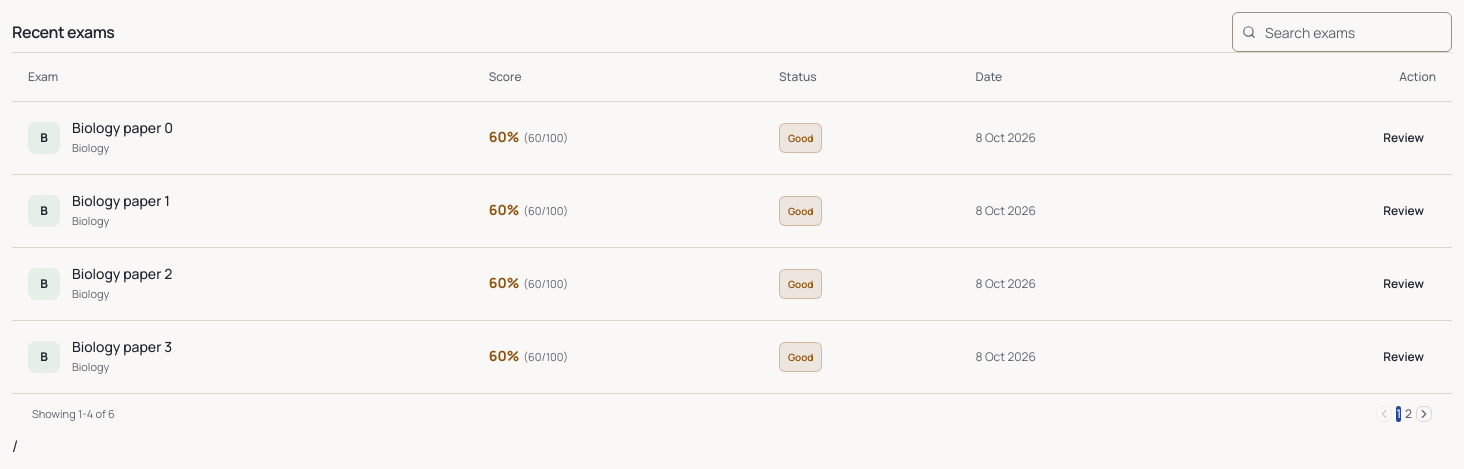
keeps exam search, pagination and the exact review destination
Later steps or results of the test are not shown.
Click the button named "Next results page" at (1424,414), box [1416,406,1432,422]
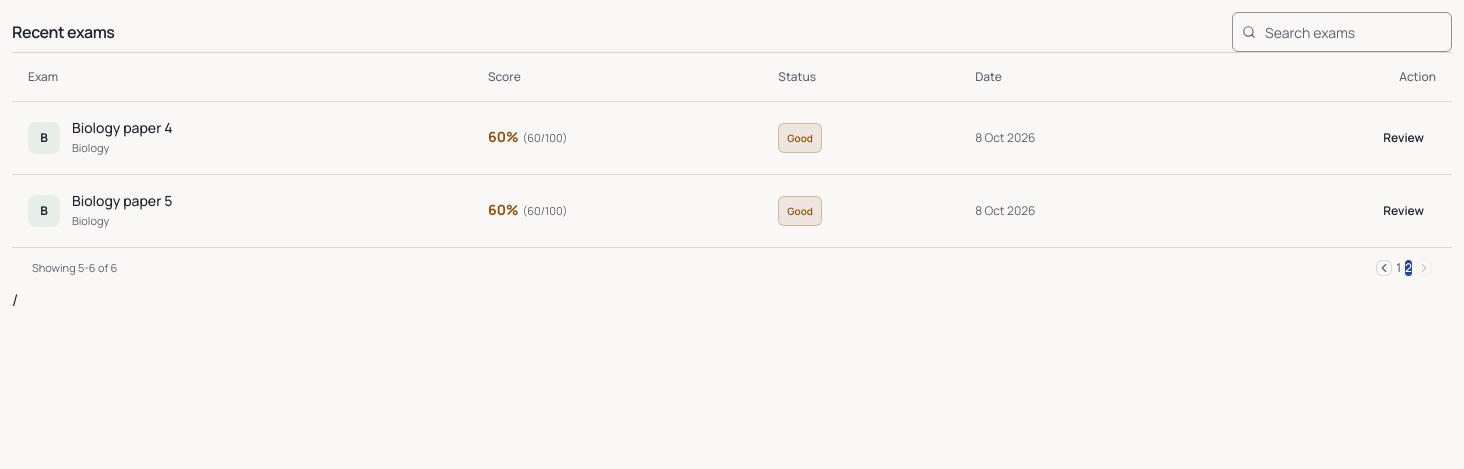
Now the text "Biology paper 4" is shown, box [72,118,172,138]
Type "paper 2" into the field labelled "Search exams" at (1342,32), box [1232,12,1452,52]
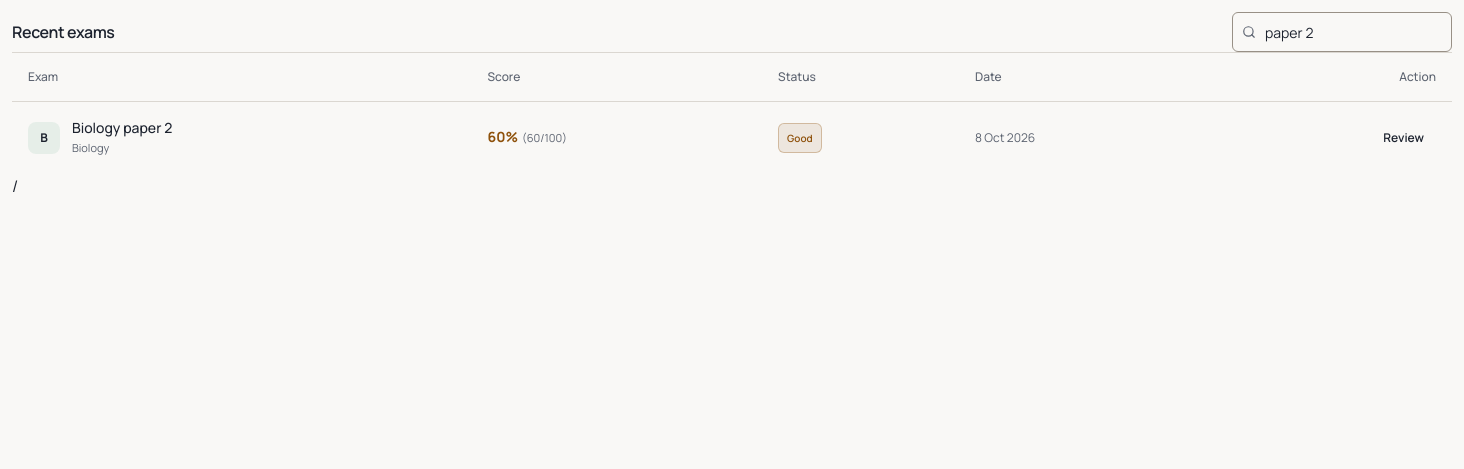
Now the text "Biology paper 2" is shown, box [72,118,172,138]
Click the button "Review" at (1404,138), box [1371,118,1436,158]
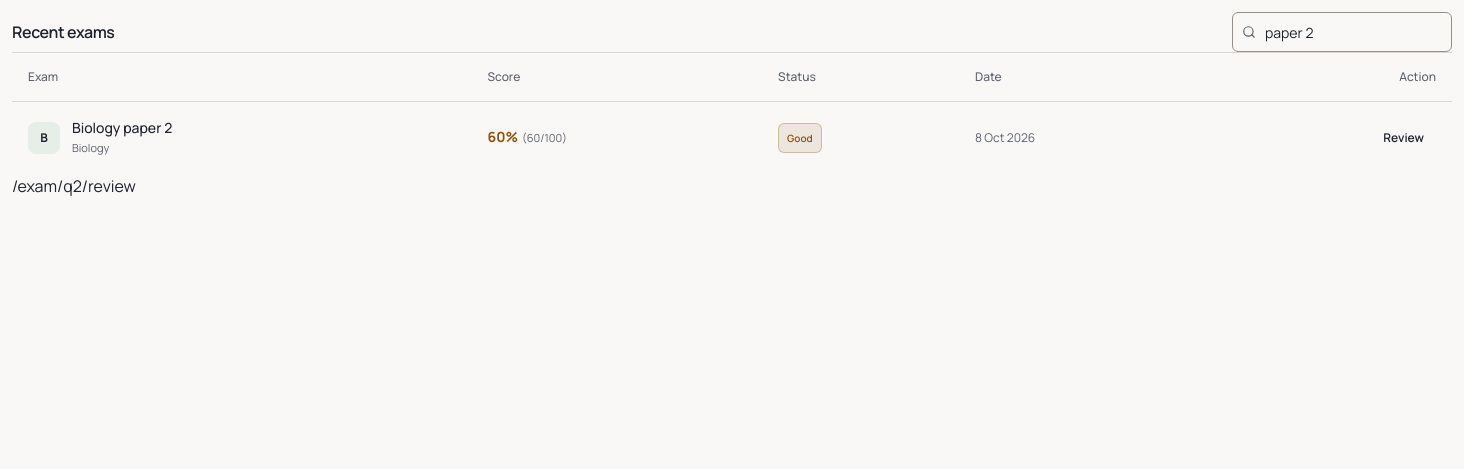
Now the text named "Destination" reads "/exam/q2/review", box [12,174,136,196]
